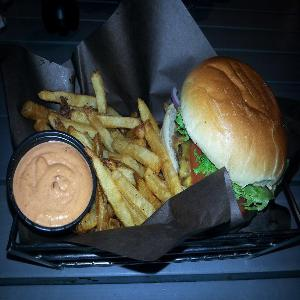cheeseburger: (165, 52, 288, 227)
fries: (69, 62, 184, 234)
